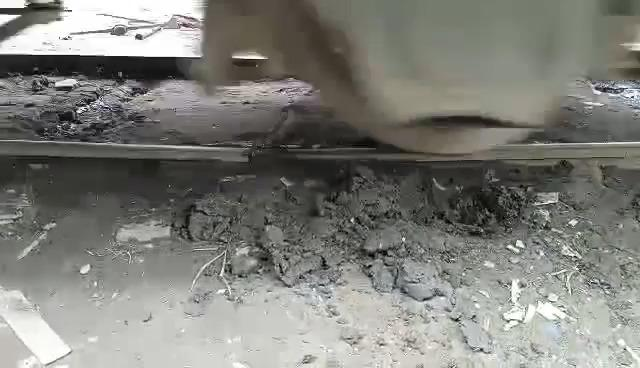railway-gap: (221, 128, 278, 181)
